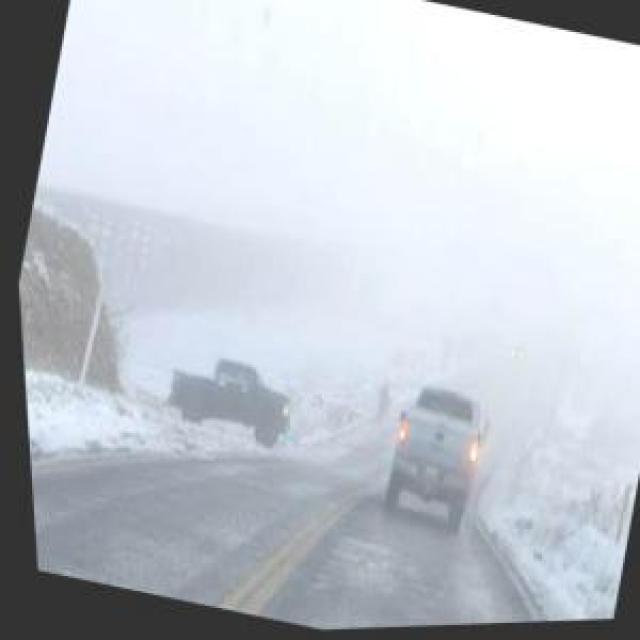clear-road: (25, 448, 540, 631)
